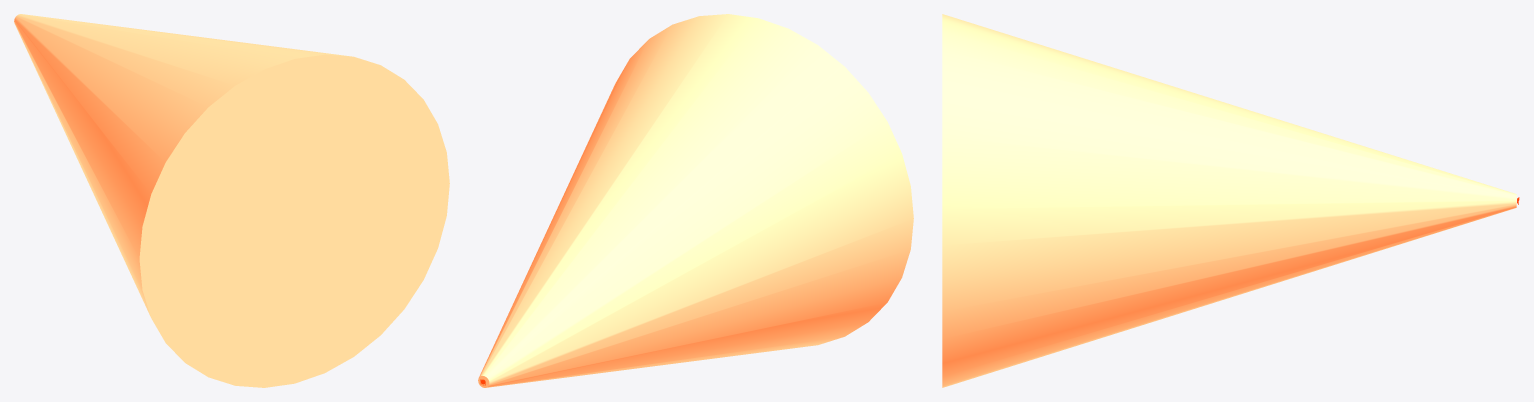
File: ParLight--RTP-SplitMesh-LowPoly.fbx
3 views of the same model, side by side, from view 1: azimuth 30°, elevation 25°; view 2: azimuth 150°, elevation 25°; view 3: azimuth 270°, elevation 25° (orthographic). The views are drawn at different scales.
Parts seen in each view (by area): view 1: ParLight-Projection-ProjectionMesh-LowPoly; view 2: ParLight-Projection-ProjectionMesh-LowPoly; view 3: ParLight-Projection-ProjectionMesh-LowPoly.
Boxes of the visible parts, x1=… form: ParLight-Projection-ProjectionMesh-LowPoly: x1=14, y1=14, x2=449, y2=387; ParLight-Projection-ProjectionMesh-LowPoly: x1=478, y1=14, x2=913, y2=387; ParLight-Projection-ProjectionMesh-LowPoly: x1=942, y1=14, x2=1516, y2=387.
Size of the model in its own units: 26.12 by 26.12 by 40.25.
